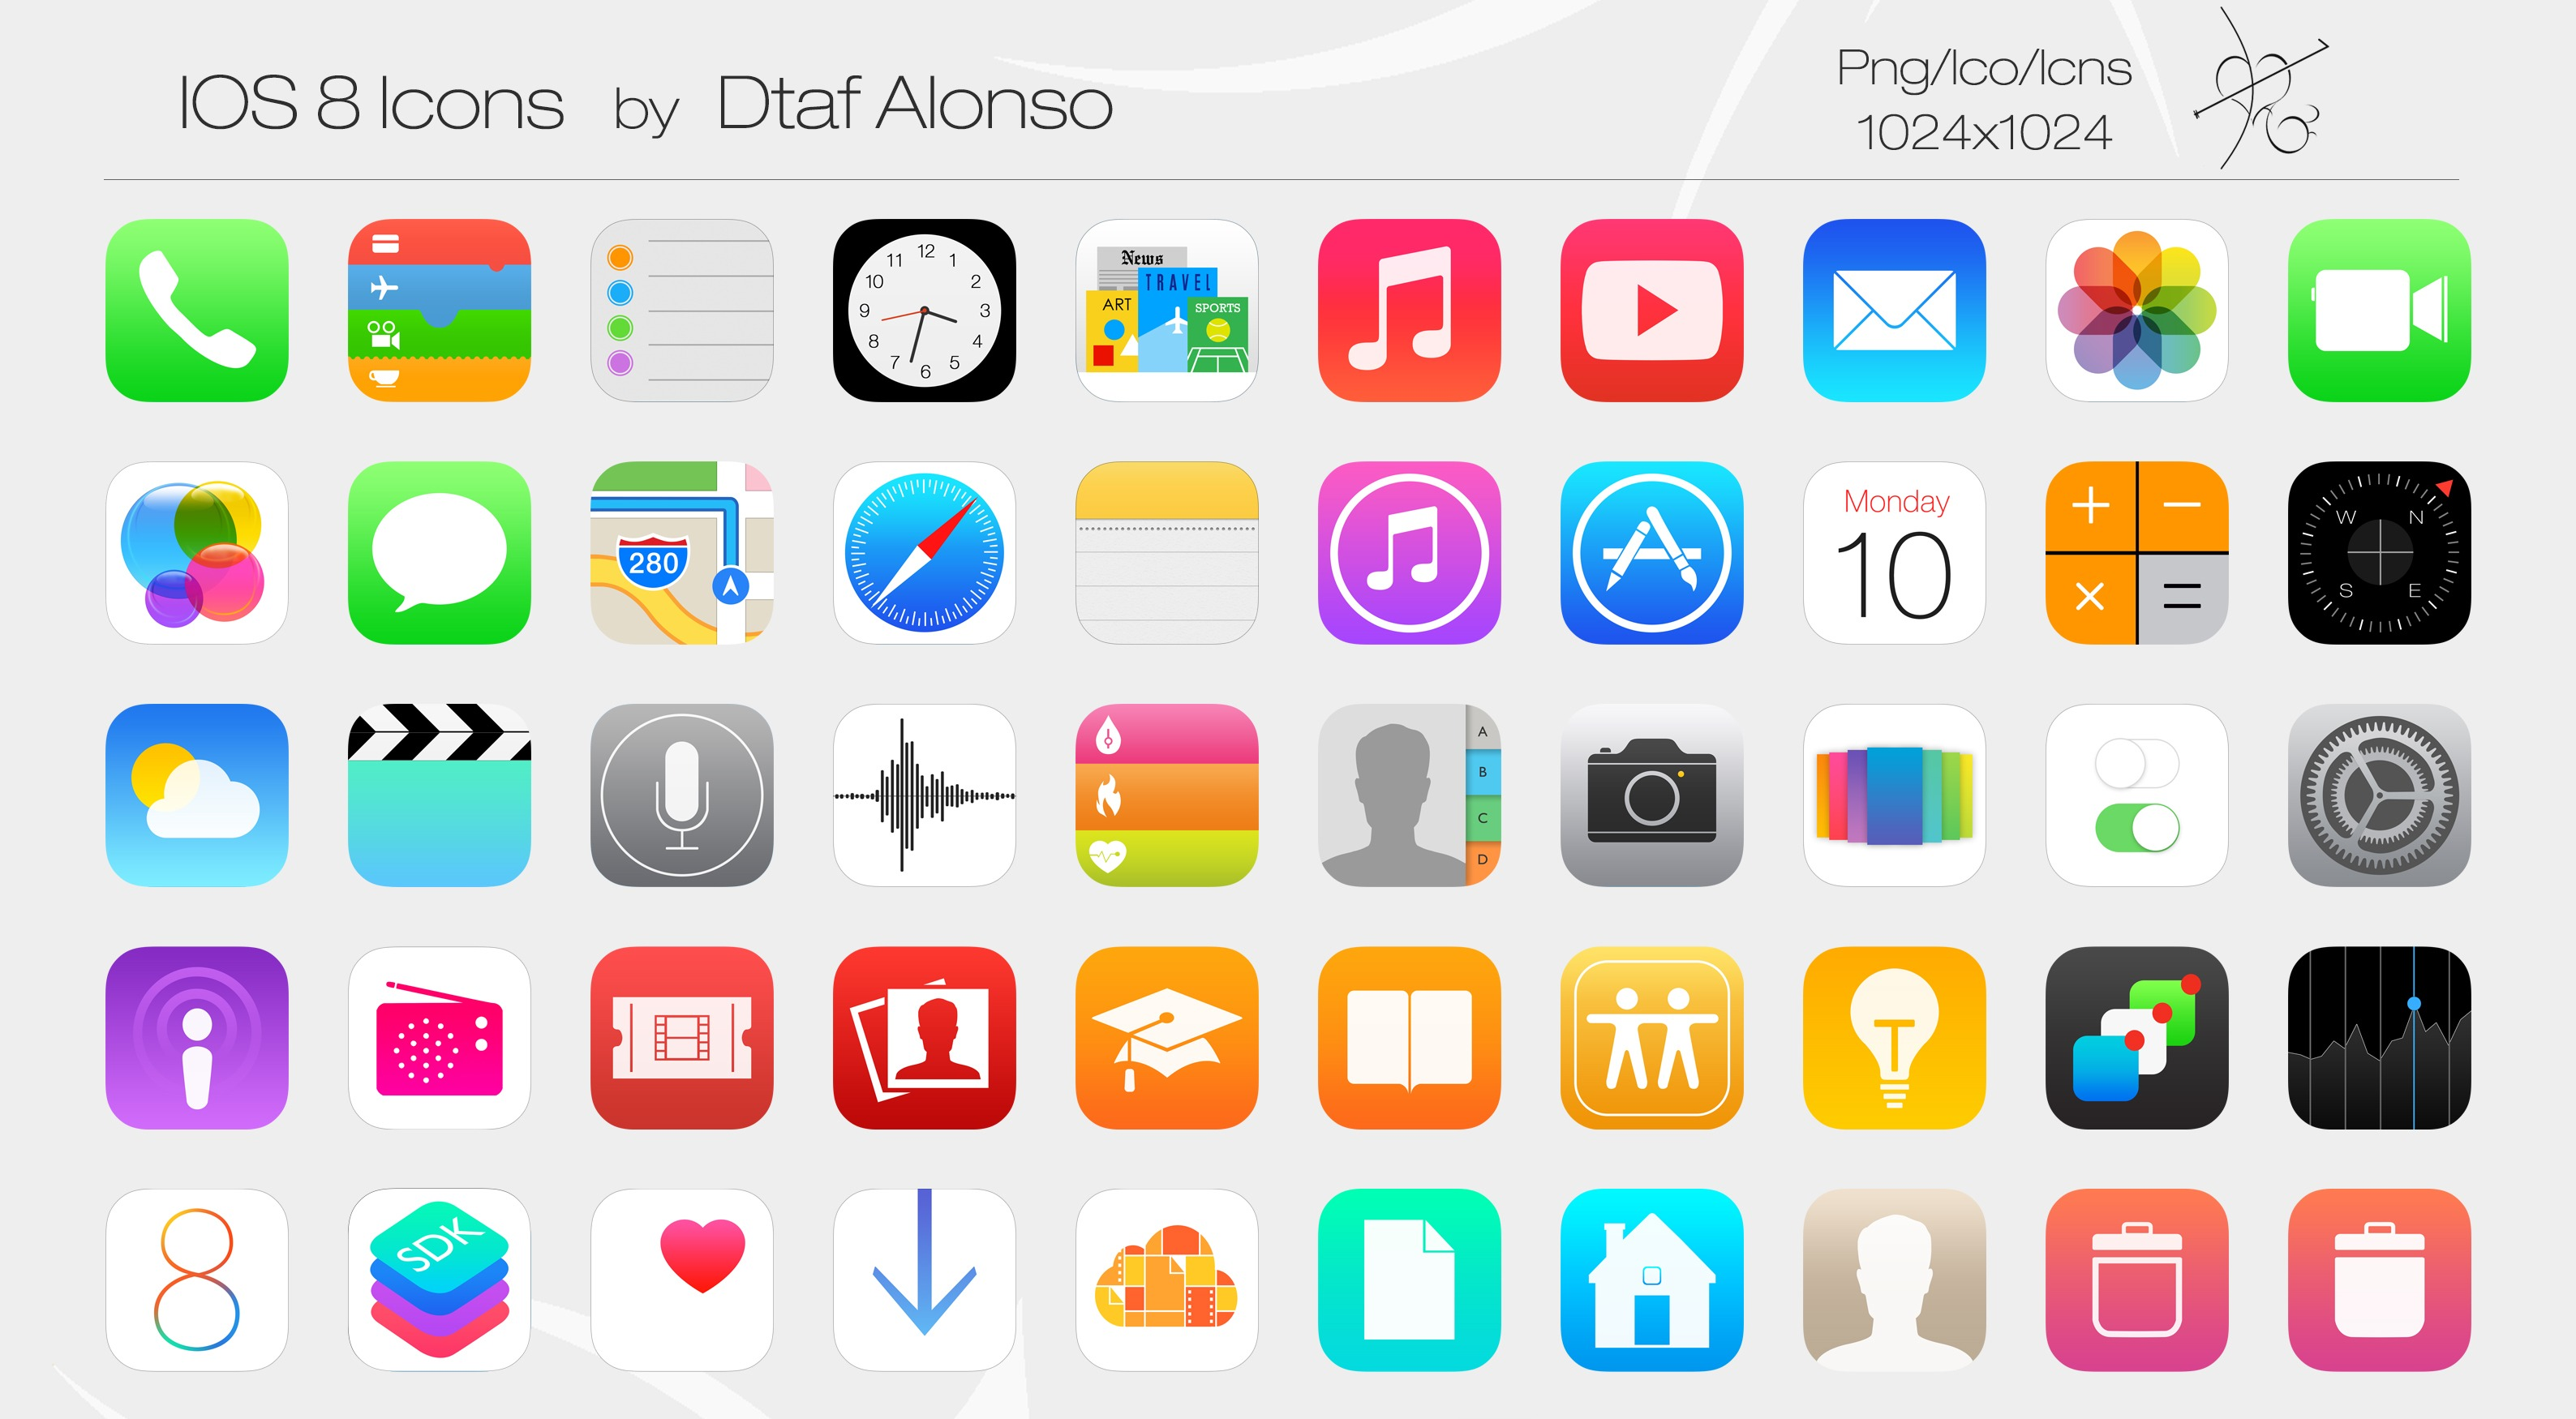calendar: (1784, 454, 1991, 643)
clock: (827, 201, 1021, 388)
